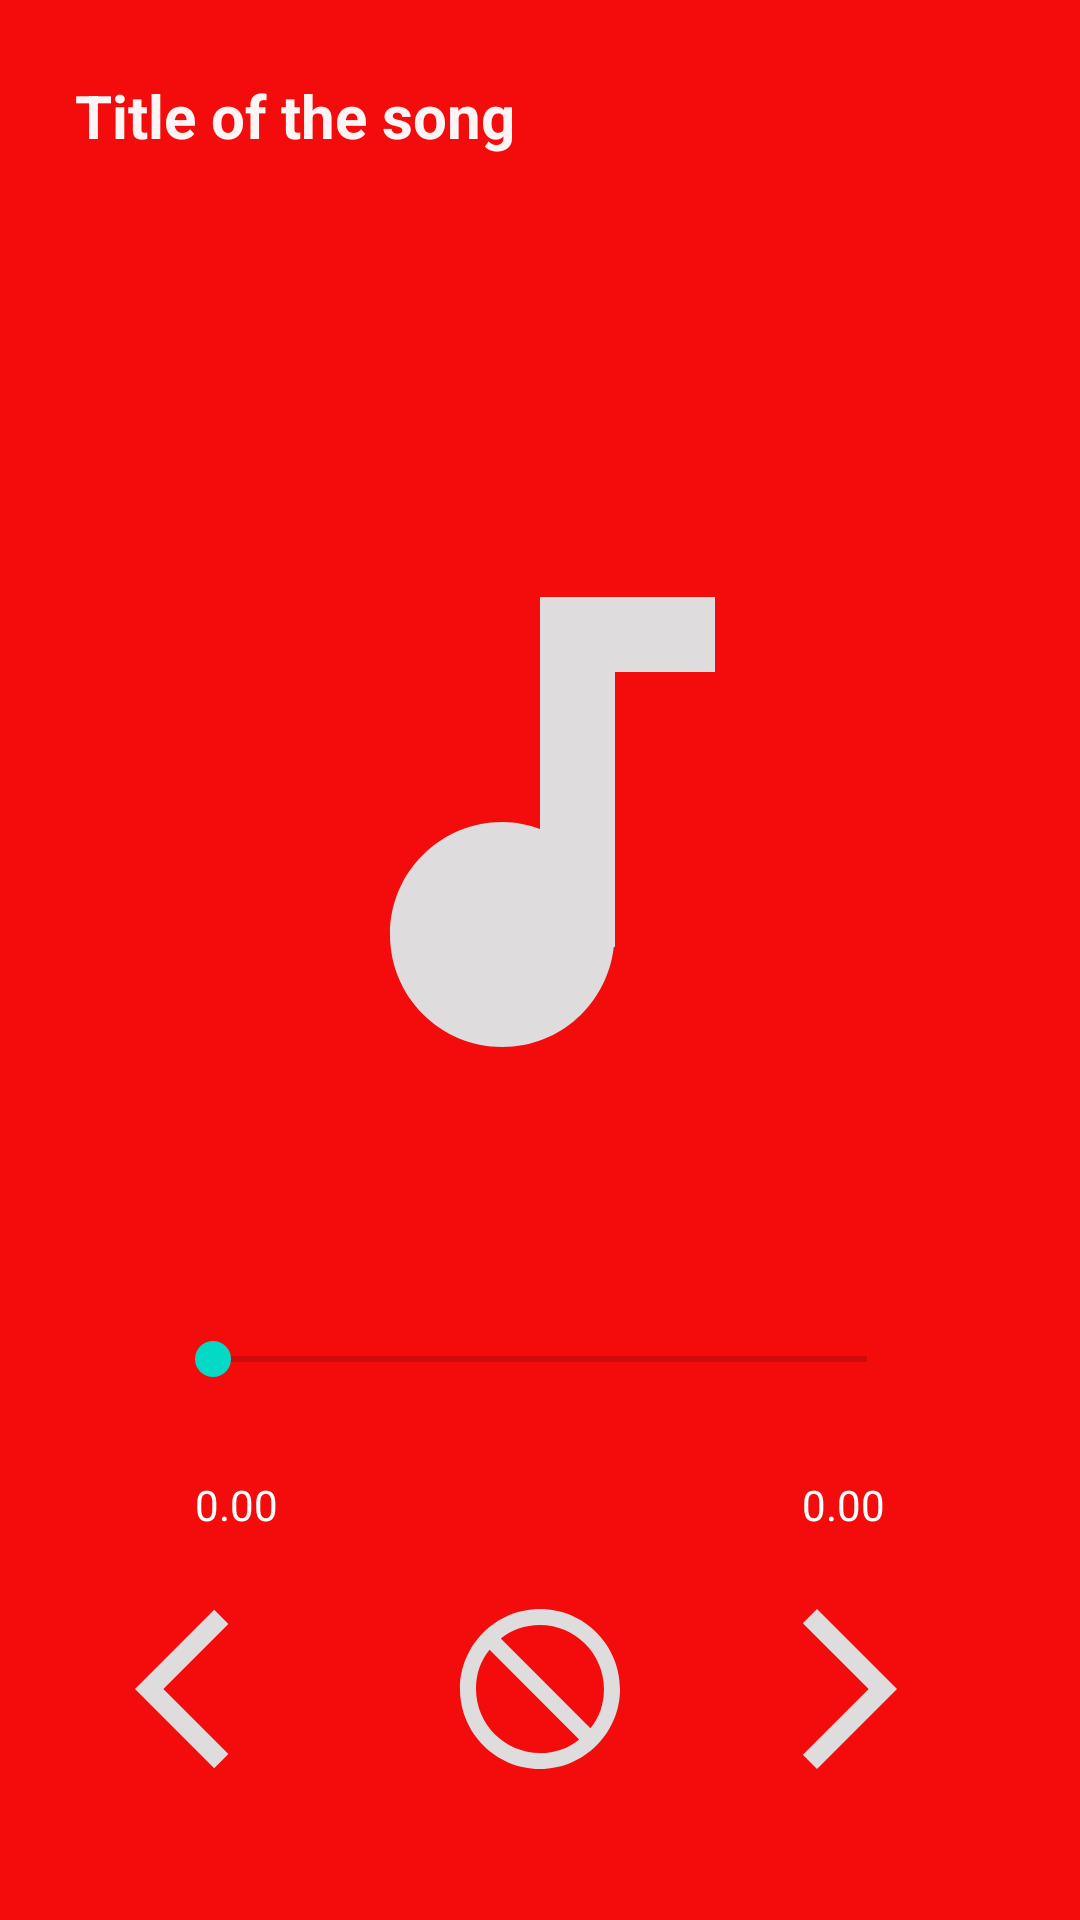

Screen size 1080w x 1920h. Icon name, then its box in pixels as (x1, y1, x2, y2):
arrow back: (135, 1610, 228, 1768)
arrow forward: (803, 1609, 897, 1769)
block flipped: (460, 1609, 620, 1769)
